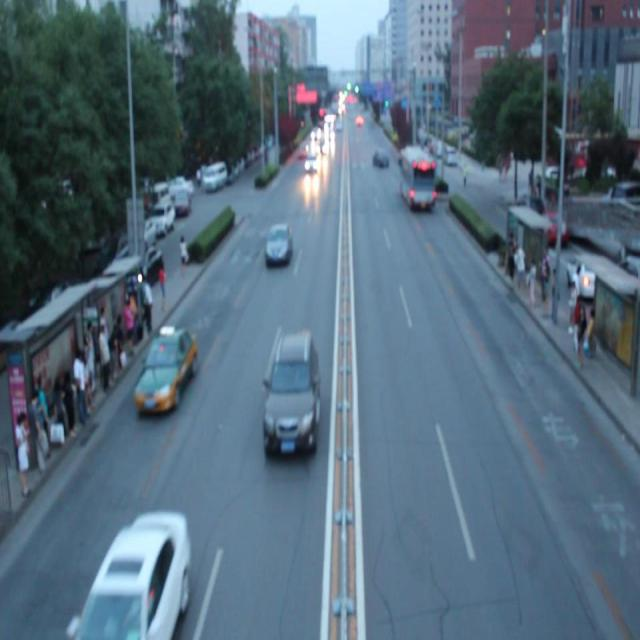car: (79, 512, 191, 640), (262, 335, 320, 452), (136, 322, 194, 409), (265, 224, 291, 262), (373, 146, 388, 166), (304, 154, 317, 170)
van: (399, 148, 436, 205)
